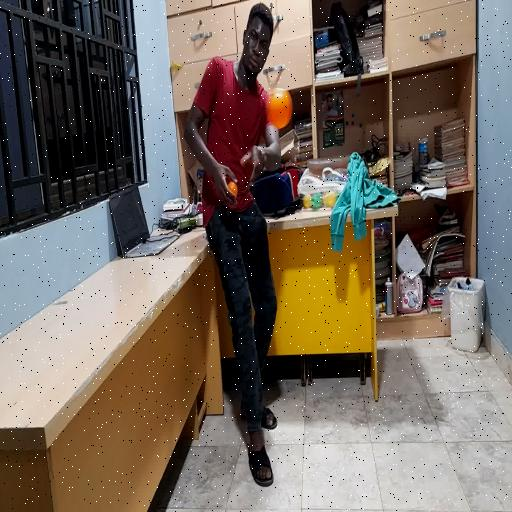plastic-ball: (260, 84, 294, 132)
